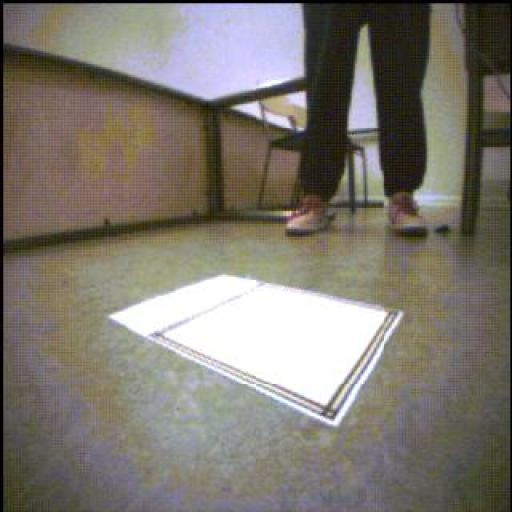Pad: (112, 276, 403, 427)
